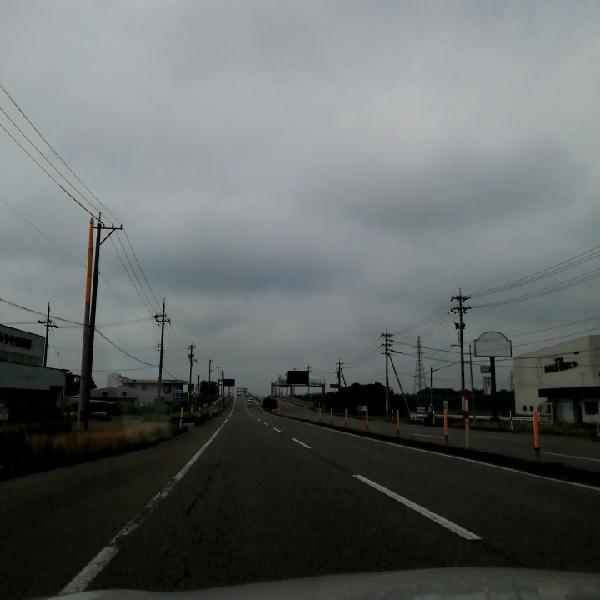D00: (153, 469, 215, 596)
